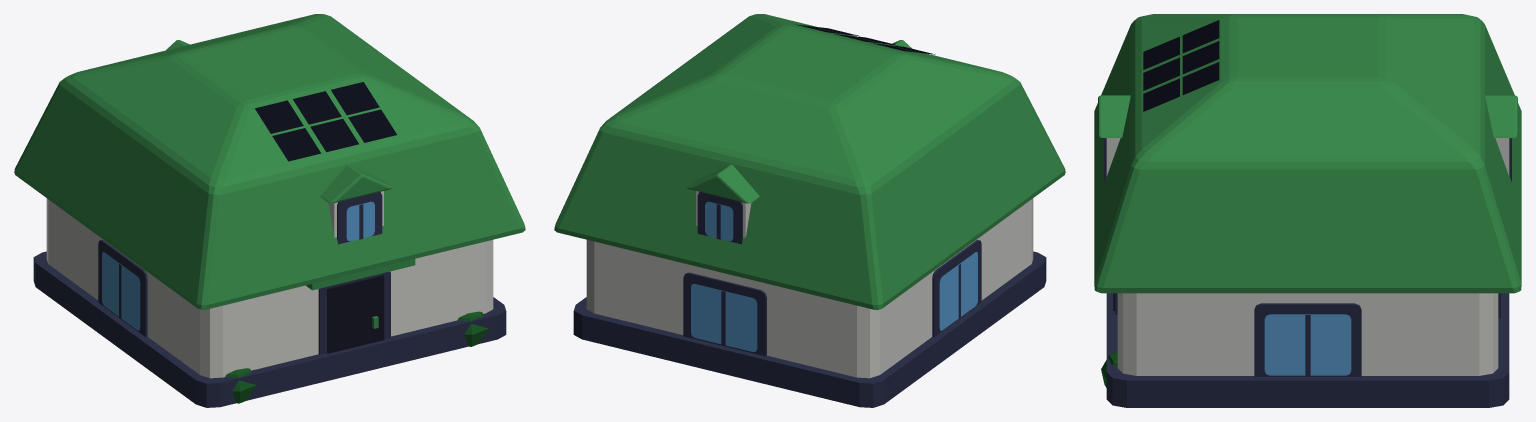
The model's file is house-1x1-1f-mansard-a-solar.glb.
3 renders of one model, left to right at view 1: azimuth 30°, elevation 25°; view 2: azimuth 150°, elevation 25°; view 3: azimuth 270°, elevation 25°, orthographic. The views are drawn at different scales.
Parts seen in each view (by area): view 1: house-1x1-1f-mansard-a-solar; view 2: house-1x1-1f-mansard-a-solar; view 3: house-1x1-1f-mansard-a-solar.
Part boxes in pixels (x1,y1,x2,y2): house-1x1-1f-mansard-a-solar: (14,14,525,407); house-1x1-1f-mansard-a-solar: (554,14,1065,407); house-1x1-1f-mansard-a-solar: (1094,14,1521,407).
Bounding box in the file's own units: 0.9876 × 0.7026 × 0.9876.
Materials: 1 (1 with a texture image).
